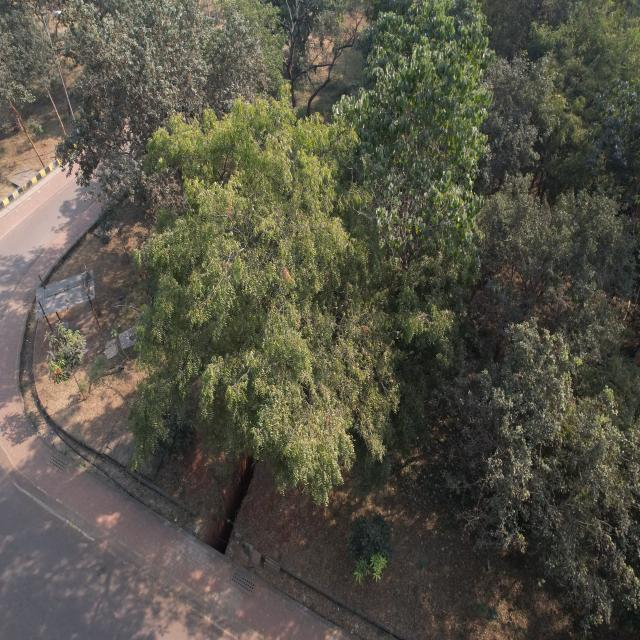Neem-Tree: (163, 123, 370, 468)
